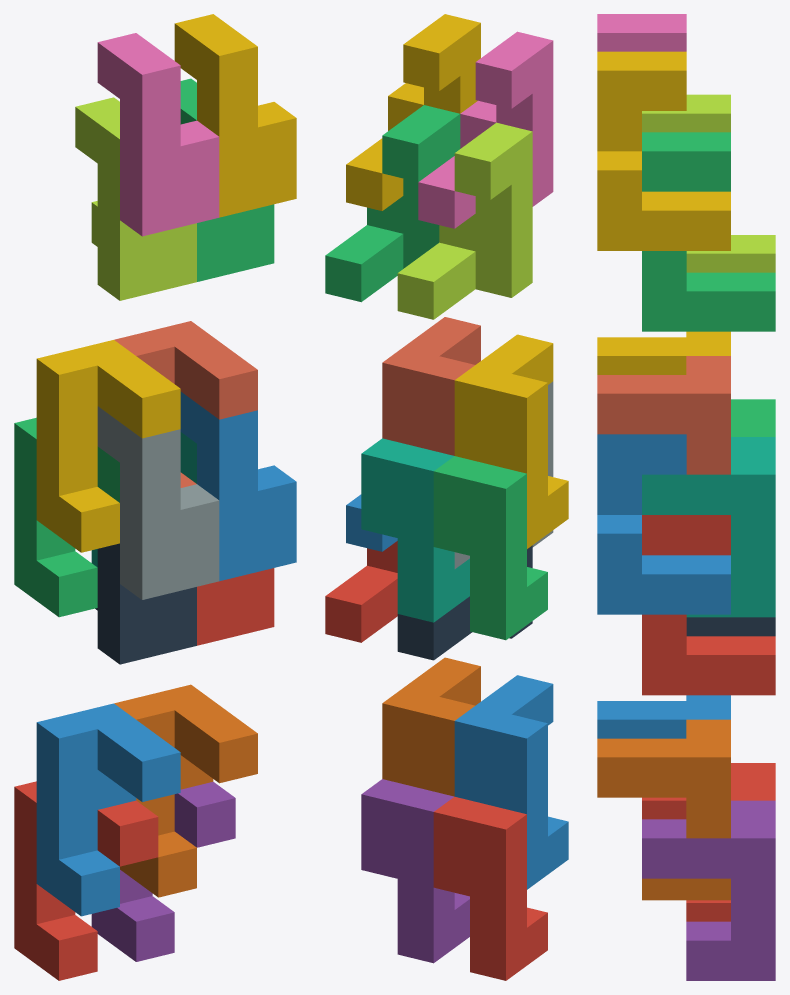
The model's file is tiling.obj.
3 renders of one model, left to right at view 1: azimuth 30°, elevation 25°; view 2: azimuth 150°, elevation 25°; view 3: azimuth 270°, elevation 25°, orthographic. The views are drawn at different scales.
Parts seen in each view (by area): view 1: copy_1_domain_2, copy_1_domain_4, copy_2_domain_4, copy_2_domain_2, copy_2_domain_8, copy_2_domain_6, copy_1_domain_6, copy_1_domain_1, copy_2_domain_3, copy_1_domain_3, copy_1_domain_5, copy_1_domain_8 (+4 smaller); view 2: copy_2_domain_3, copy_1_domain_1, copy_1_domain_3, copy_1_domain_2, copy_1_domain_4, copy_1_domain_5, copy_1_domain_7, copy_2_domain_7, copy_2_domain_4, copy_2_domain_8, copy_1_domain_6, copy_1_domain_8 (+4 smaller); view 3: copy_2_domain_8, copy_1_domain_5, copy_2_domain_6, copy_2_domain_7, copy_1_domain_6, copy_2_domain_5, copy_1_domain_7, copy_1_domain_8, copy_2_domain_3, copy_1_domain_2, copy_1_domain_4, copy_1_domain_1 (+3 smaller).
Part boxes in pixels (left/top/right/bottom): copy_1_domain_2: left=36, top=703, right=180, bottom=916; copy_1_domain_4: left=36, top=340, right=180, bottom=552; copy_2_domain_4: left=97, top=33, right=219, bottom=236; copy_2_domain_2: left=97, top=406, right=219, bottom=599; copy_2_domain_8: left=174, top=14, right=296, bottom=217; copy_2_domain_6: left=180, top=391, right=296, bottom=581; copy_1_domain_6: left=114, top=684, right=257, bottom=897; copy_1_domain_1: left=14, top=781, right=158, bottom=980; copy_2_domain_3: left=75, top=97, right=196, bottom=300; copy_1_domain_3: left=14, top=417, right=119, bottom=617; copy_1_domain_5: left=91, top=781, right=235, bottom=961; copy_1_domain_8: left=114, top=321, right=257, bottom=487; copy_2_domain_3: left=397, top=122, right=532, bottom=319; copy_1_domain_1: left=433, top=796, right=547, bottom=980; copy_1_domain_3: left=433, top=456, right=547, bottom=640; copy_1_domain_2: left=454, top=675, right=568, bottom=889; copy_1_domain_4: left=454, top=334, right=568, bottom=548; copy_1_domain_5: left=361, top=779, right=469, bottom=963; copy_1_domain_7: left=361, top=438, right=469, bottom=622; copy_2_domain_7: left=325, top=105, right=460, bottom=302; copy_2_domain_4: left=418, top=31, right=553, bottom=228; copy_2_domain_8: left=346, top=14, right=480, bottom=210; copy_1_domain_6: left=382, top=657, right=480, bottom=796; copy_1_domain_8: left=382, top=317, right=480, bottom=455; copy_2_domain_8: left=597, top=51, right=730, bottom=250; copy_1_domain_5: left=642, top=800, right=775, bottom=980; copy_2_domain_6: left=597, top=434, right=730, bottom=614; copy_2_domain_7: left=642, top=132, right=775, bottom=331; copy_1_domain_6: left=597, top=719, right=730, bottom=900; copy_2_domain_5: left=642, top=515, right=775, bottom=695; copy_1_domain_7: left=642, top=437, right=775, bottom=617; copy_1_domain_8: left=597, top=356, right=730, bottom=474; copy_2_domain_3: left=642, top=94, right=775, bottom=272; copy_1_domain_2: left=597, top=695, right=730, bottom=738; copy_1_domain_4: left=597, top=331, right=730, bottom=374; copy_1_domain_1: left=642, top=763, right=775, bottom=921.
Size of the model in its own units: 5 by 23 by 4.
